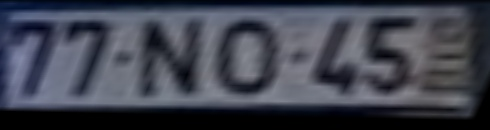4: (305, 17, 366, 102)
5: (364, 16, 425, 103)
7: (6, 20, 68, 105), (61, 20, 117, 107)
N: (129, 17, 214, 105)
O: (212, 15, 288, 102)
